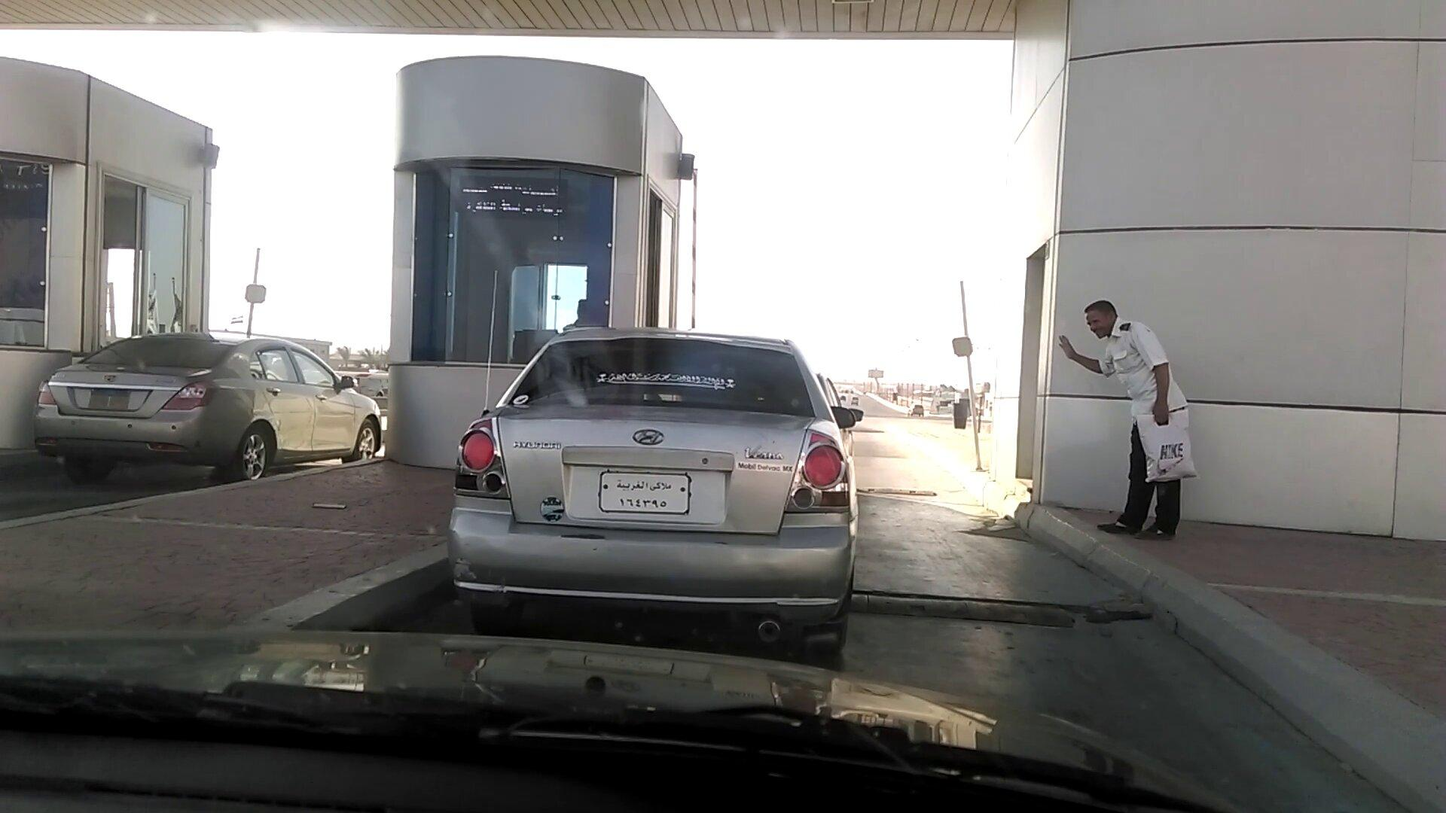Bump: (849, 578, 1094, 638)
